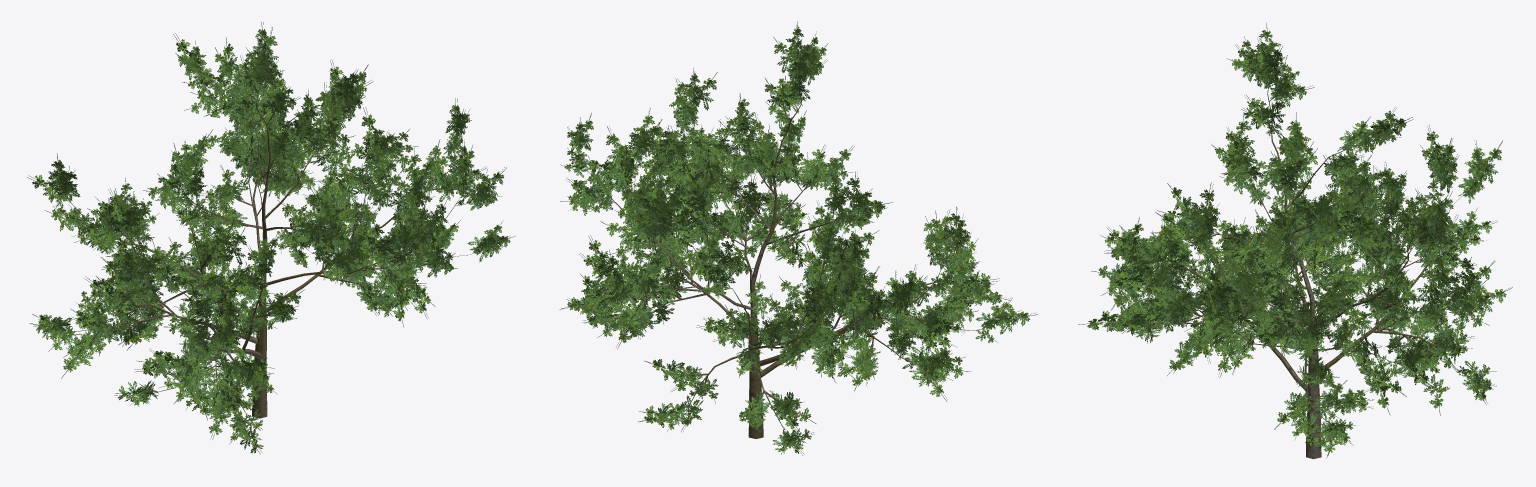
The model's file is teak-b.glb.
3 renders of one model, left to right at view 1: azimuth 30°, elevation 25°; view 2: azimuth 150°, elevation 25°; view 3: azimuth 270°, elevation 25°, orthographic. The views are drawn at different scales.
Parts seen in each view (by area): view 1: Tree; view 2: Tree; view 3: Tree.
Boxes of the visible parts, x1=… form: Tree: x1=27, y1=22, x2=515, y2=454; Tree: x1=559, y1=21, x2=1037, y2=455; Tree: x1=1078, y1=23, x2=1512, y2=459.
Size of the model in its own units: 23.34 by 21 by 20.14.
Materials: 2 (2 with a texture image).
